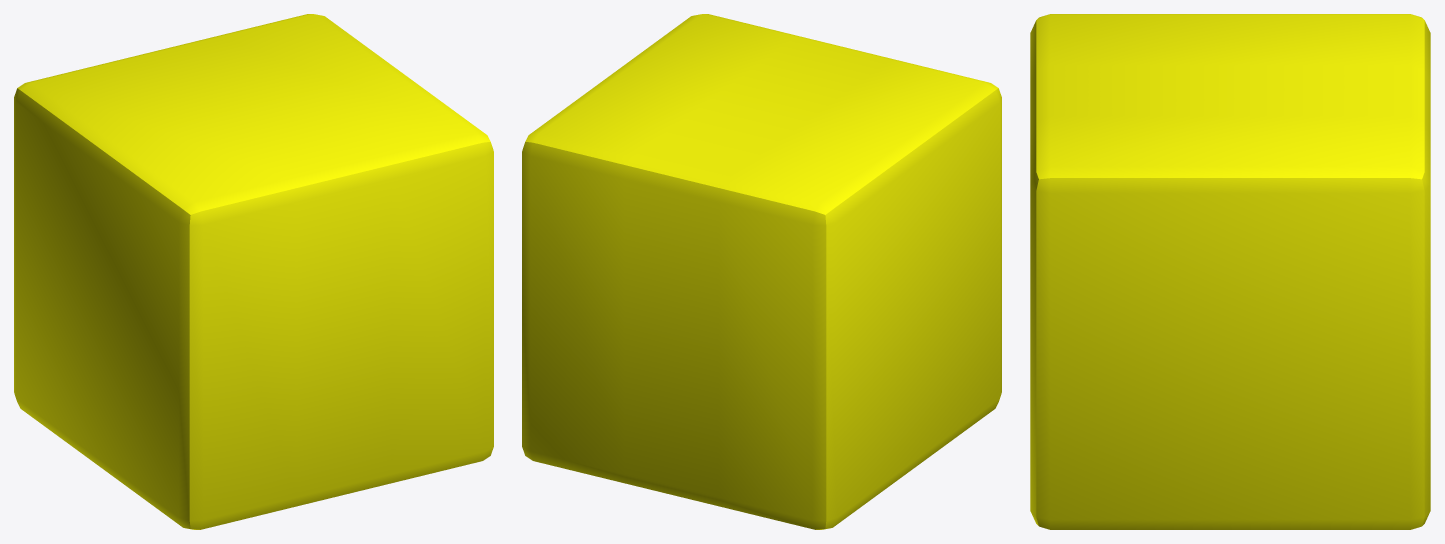
File: kaykit-striped-block-yellow.glb
The picture shows the model from 3 angles, left to right: view 1: azimuth 30°, elevation 25°; view 2: azimuth 150°, elevation 25°; view 3: azimuth 270°, elevation 25°; orthographic projection. The views are drawn at different scales.
Visible parts, largest first — view 1: striped_block_yellow; view 2: striped_block_yellow; view 3: striped_block_yellow.
Boxes of the visible parts, x1,y1,x2,y2 form: striped_block_yellow: (14, 14, 493, 529); striped_block_yellow: (522, 14, 1001, 529); striped_block_yellow: (1030, 14, 1430, 529).
Bounding box in the file's own units: 2 × 2 × 2.
